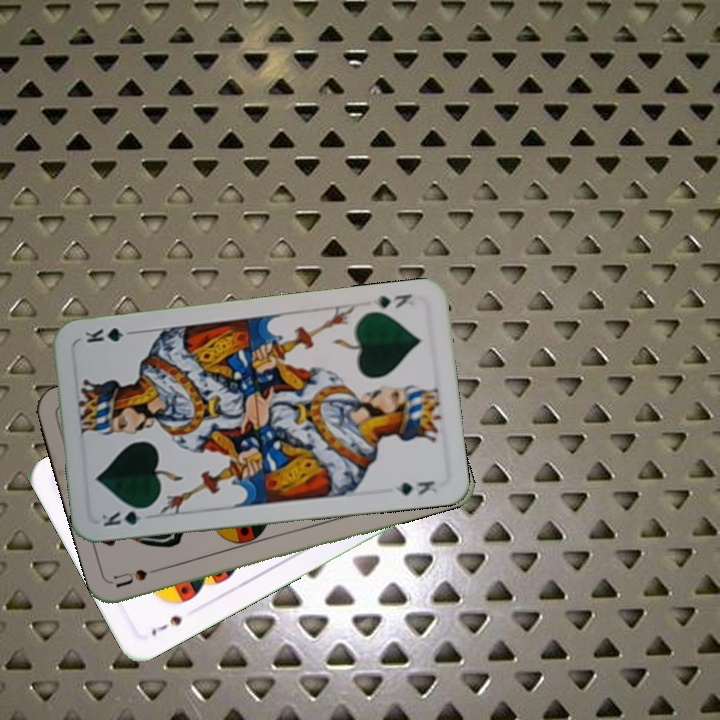GK: (97, 503, 154, 529), (369, 290, 417, 311)
S7: (147, 611, 185, 639)
SU: (110, 562, 170, 591)
